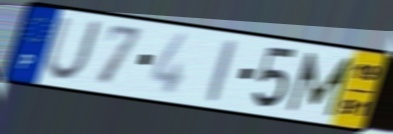4: (146, 30, 191, 99)
5: (251, 46, 298, 110)
7: (97, 23, 144, 89)
I: (205, 36, 240, 105)
M: (285, 49, 356, 119)
U: (42, 15, 105, 83)
